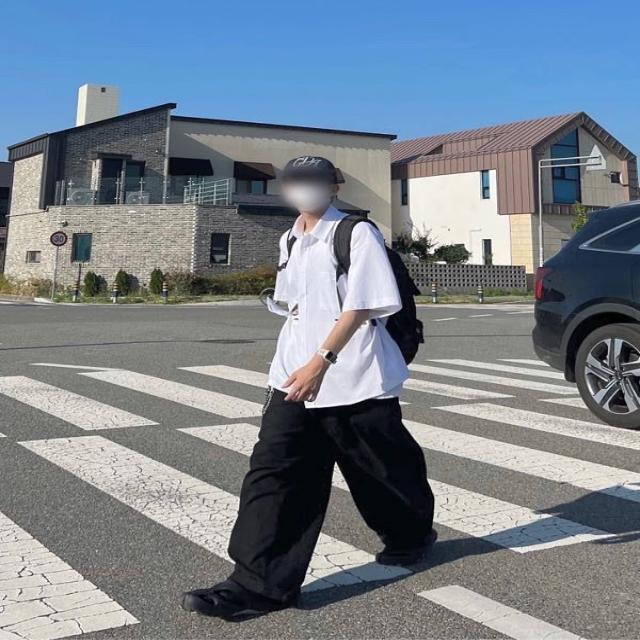cottonpants: (223, 384, 437, 606)
shortsleeve: (264, 209, 405, 405)
